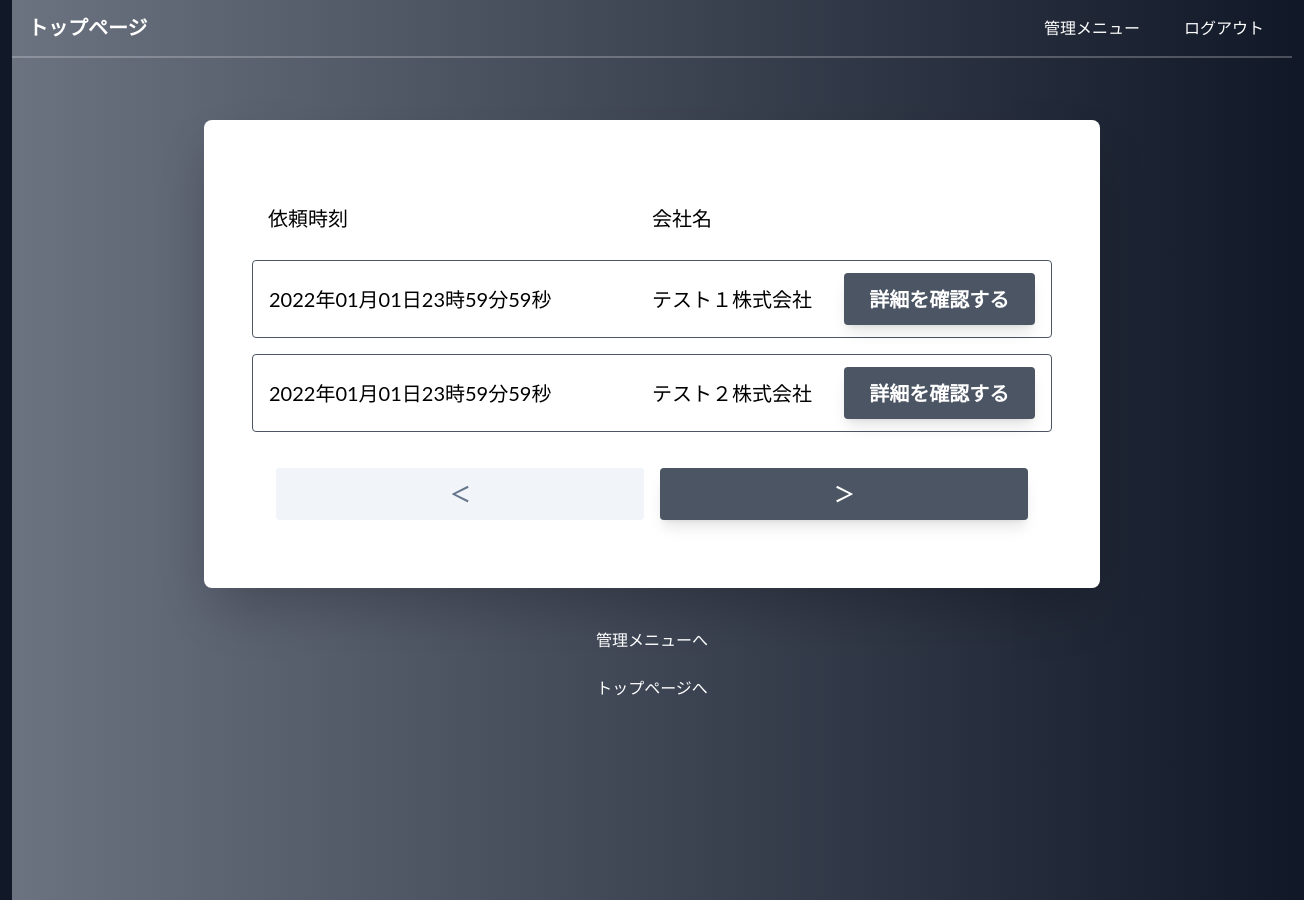
Test case: CreateCareerRequestListPage.vue › moves to second page if next is pushed, then moves to first page if previous is pushed
Expected: the element with test id "list" shows "依頼時刻", [268,206,348,230]
Expected: the element with test id "list" shows "会社名", [652,206,712,230]
Click the button with test id "next-button".
click(844, 494)  # box [660,468,1028,520]
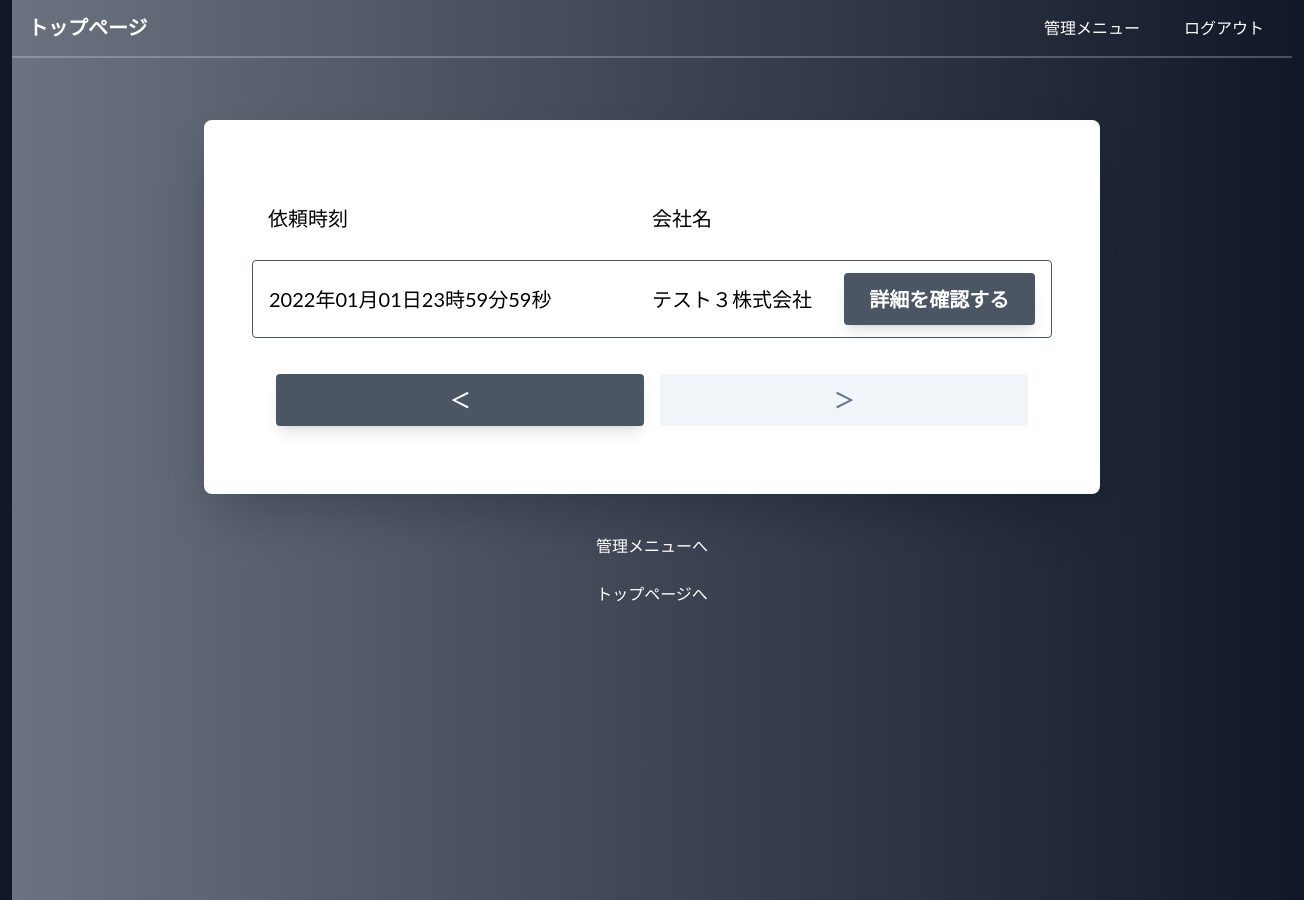
Expected: the element with test id "list" shows "依頼時刻", [268,206,348,230]
Expected: the element with test id "list" shows "テスト３株式会社", [652,287,812,311]
Click the button with test id "prev-button".
click(460, 400)  # box [276,374,644,426]
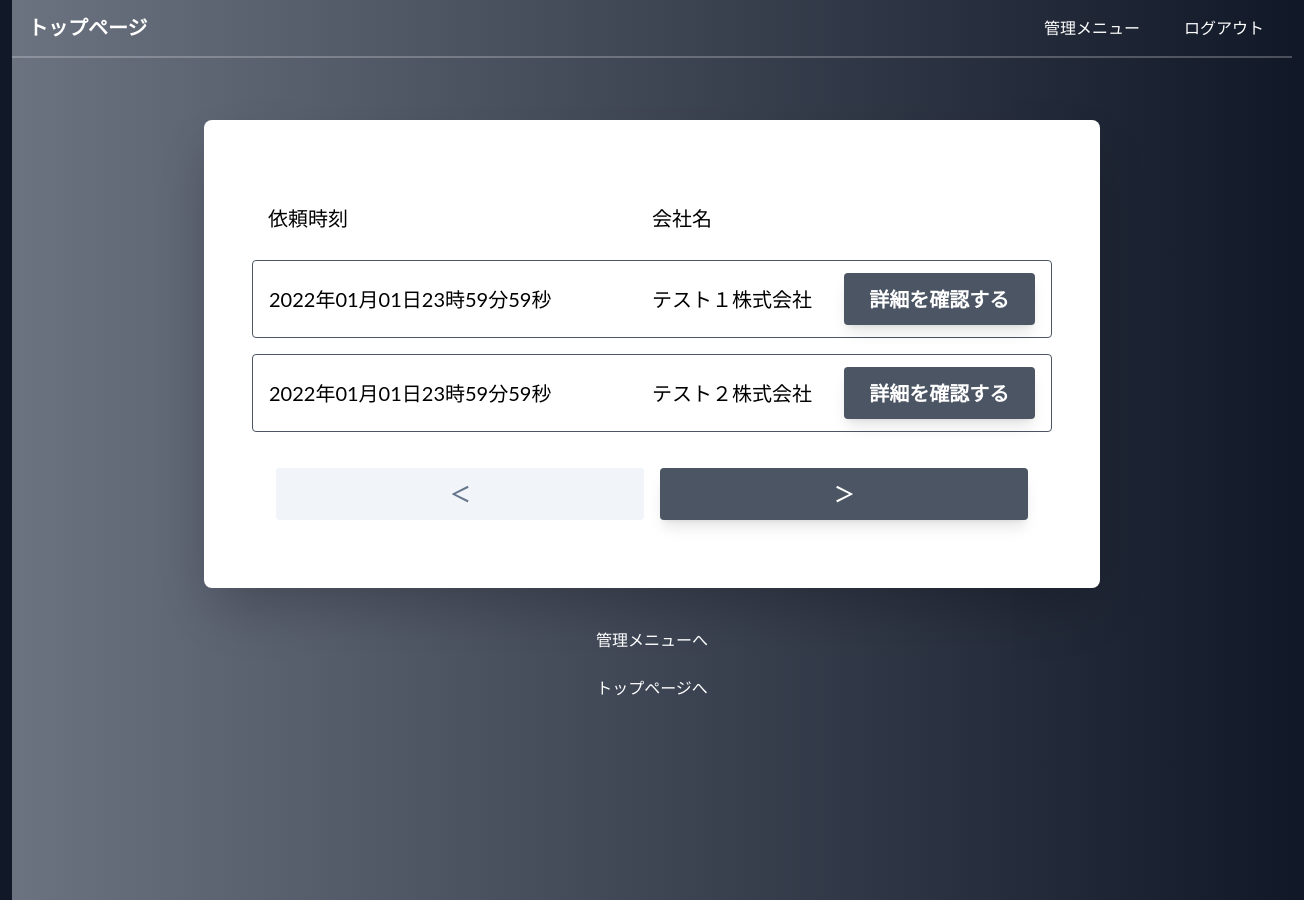
Expected: the element with test id "list" shows "依頼時刻", [268,206,348,230]
Expected: the element with test id "list" shows "テスト１株式会社", [652,287,812,311]
Expected: the element with test id "list" shows "テスト２株式会社", [652,381,812,405]
